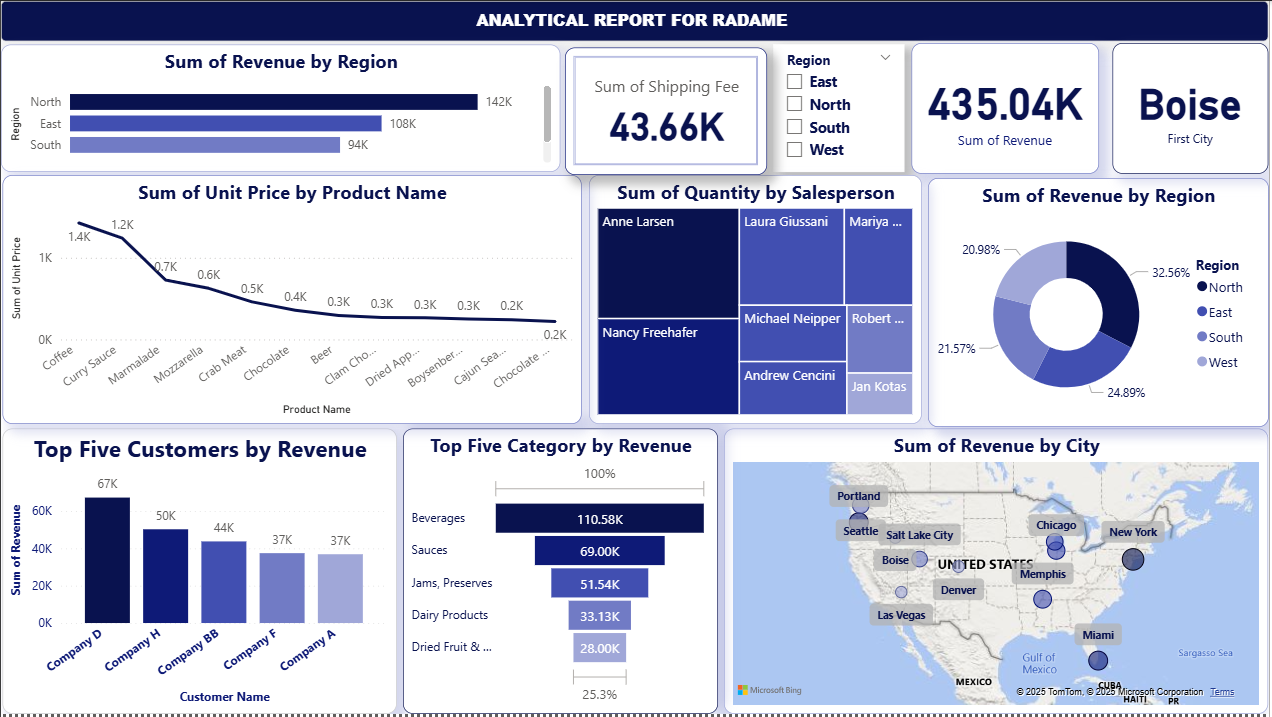

The dashboard page shown, as its layout file describes it:
{"tool":"powerbi","page":{"name":"Page 1","canvas":[1280,720],"ordinal":0},"visuals":[{"type":"textbox","box":[0,0,1279.5,40.9],"z":0},{"type":"columnChart","title":"Top Five Customers by Revenue","fields":{"Y":["Sum(Data (2).Revenue)"],"Category":["Data (2).Customer Name"]},"box":[1.5,431.5,398.2,287.7],"z":1000},{"type":"slicer","fields":{"Values":["Data (2).Region"]},"box":[779.8,43.9,131.7,128.7],"z":2000},{"type":"clusteredBarChart","fields":{"Category":["Data (2).Region"],"Y":["Sum(Data (2).Revenue)"]},"box":[0,43.9,564.8,128.7],"z":3000},{"type":"card","fields":{"Values":["Sum(Data (2).Revenue)"]},"box":[919.1,42.4,189.3,131.7],"z":4000},{"type":"map","fields":{"Category":["Data (2).City"],"Size":["Sum(Data (2).Revenue)"]},"box":[729.8,431.5,549.7,287.7],"z":5000},{"type":"donutChart","fields":{"Y":["Sum(Data (2).Revenue)"],"Category":["Data (2).Region"]},"box":[935.8,178.7,343.7,251.4],"z":6000},{"type":"funnel","title":"Top Five Category by Revenue","fields":{"Category":["Data (2).Category"],"Y":["Sum(Data (2).Revenue)"]},"box":[405.8,431.5,318,287.7],"z":7000},{"type":"treemap","fields":{"Group":["Data (2).Salesperson"],"Values":["Sum(Data (2).Quantity)"]},"box":[593.6,175.6,336.2,251.4],"z":8000},{"type":"lineChart","fields":{"Category":["Data (2).Product Name"],"Y":["Sum(Data (2).Unit Price)"]},"box":[1.5,175.6,584.5,251.4],"z":9000},{"type":"cardVisual","fields":{"Data":["Sum(Data (2).Shipping Fee)"]},"box":[569.2,46.4,204.3,128.7],"z":10000},{"type":"card","fields":{"Values":["Min(Data (2).City)"]},"box":[1122,42.4,157.5,131.7],"z":11000}]}

Visuals, with their boxes in screenshot pixels (x1, y1, x2, y2), scaled from the page's 1280x720 canvas onto the 1272x717 screenshot:
textbox: 0 0 1271 41
"Top Five Customers by Revenue" columnChart: 1 430 397 716
slicer - Data (2).Region: 775 44 906 172
clusteredBarChart - Data (2).Region x Sum(Data (2).Revenue): 0 44 561 172
card - Sum(Data (2).Revenue): 913 42 1101 173
map - Data (2).City x Sum(Data (2).Revenue): 725 430 1271 716
donutChart - Sum(Data (2).Revenue) x Data (2).Region: 930 178 1271 428
"Top Five Category by Revenue" funnel: 403 430 719 716
treemap - Data (2).Salesperson x Sum(Data (2).Quantity): 590 175 924 425
lineChart - Data (2).Product Name x Sum(Data (2).Unit Price): 1 175 582 425
cardVisual - Sum(Data (2).Shipping Fee): 566 46 769 174
card - Min(Data (2).City): 1115 42 1271 173
